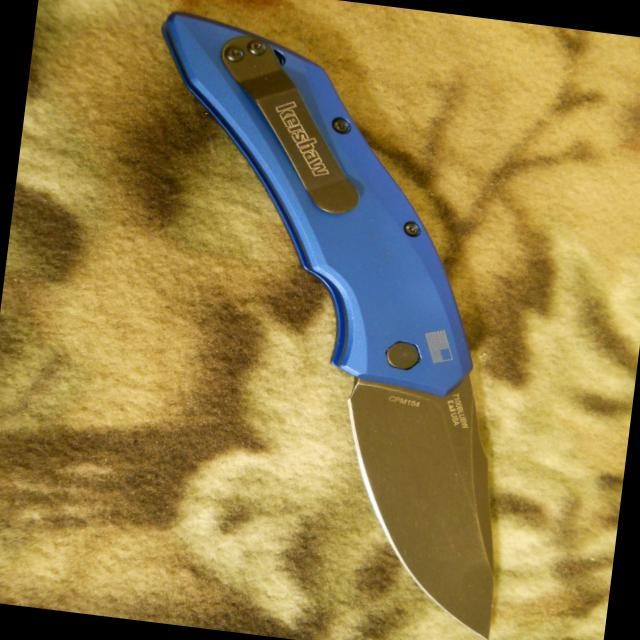knife: (318, 349, 530, 639)
